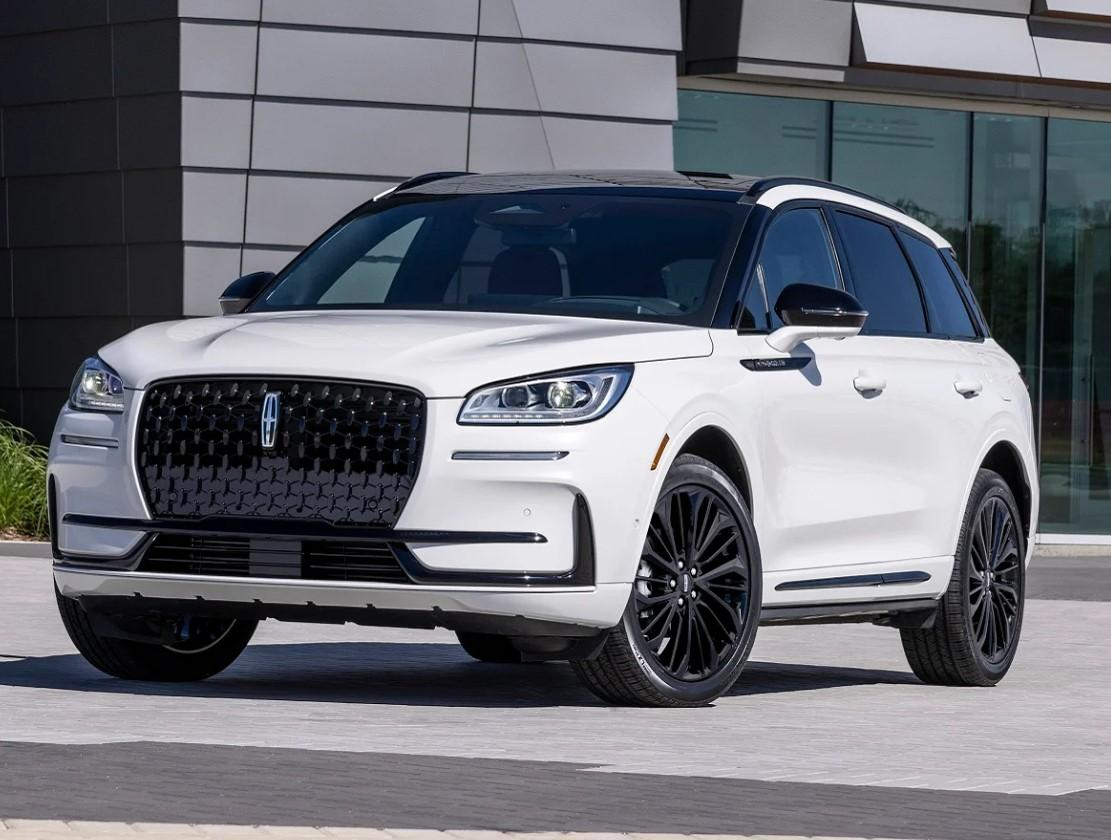lincoln: (252, 384, 291, 462)
